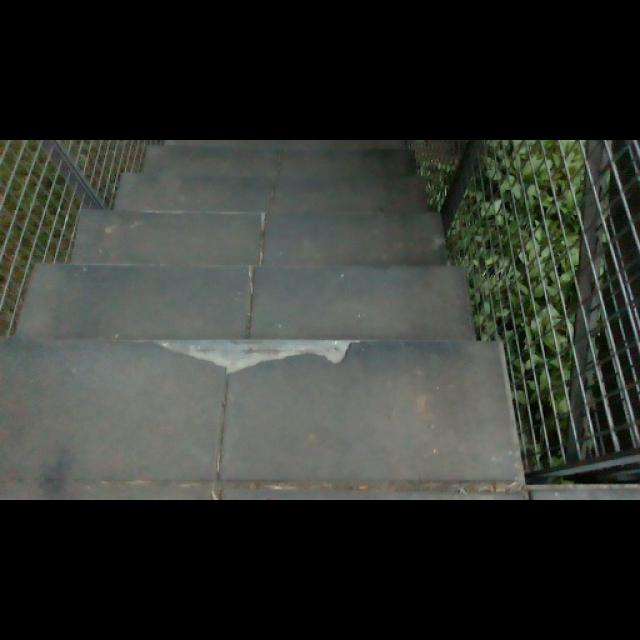stair: (48, 140, 424, 473)
